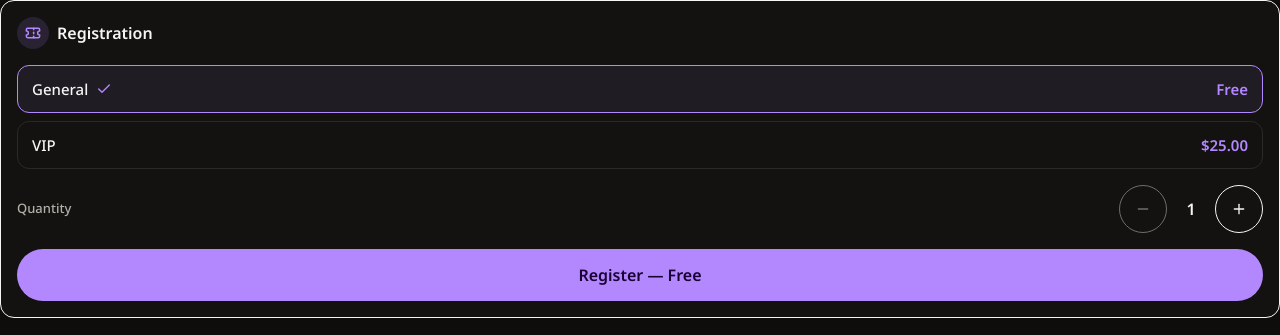
Test: NyuchiRegistrationCard › increments quantity when the + control is clicked
Expected: the text "1" is shown, [1186,198,1196,220]
Click the button named "Increase quantity": [1239, 209] box [1215,185,1263,233]
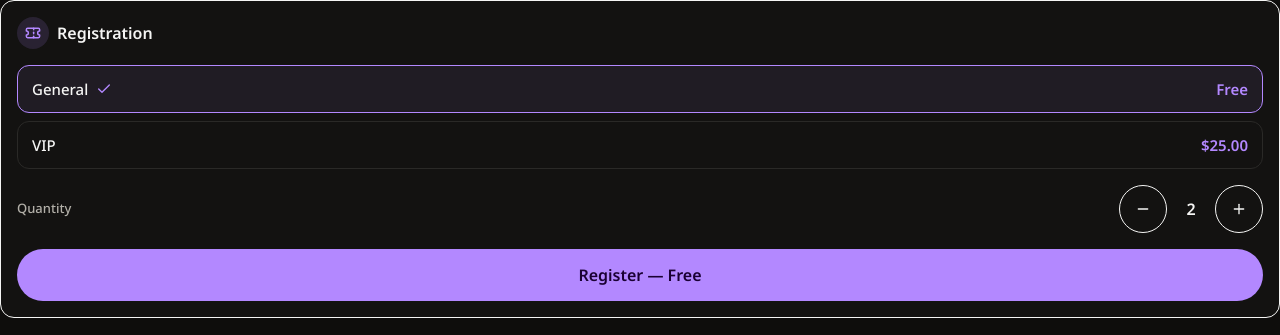
Now the text "2" is shown, box [1186,198,1196,220]
